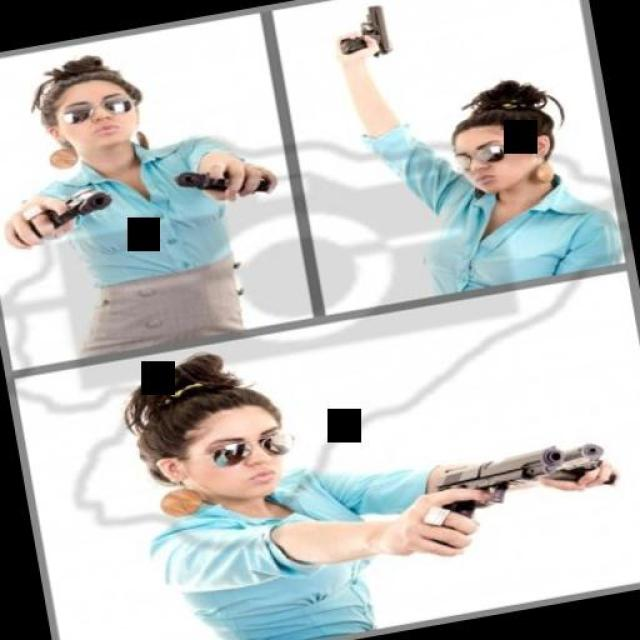gun: (405, 442, 573, 546), (508, 430, 632, 504), (6, 175, 124, 247), (172, 149, 282, 209), (324, 0, 396, 65)
